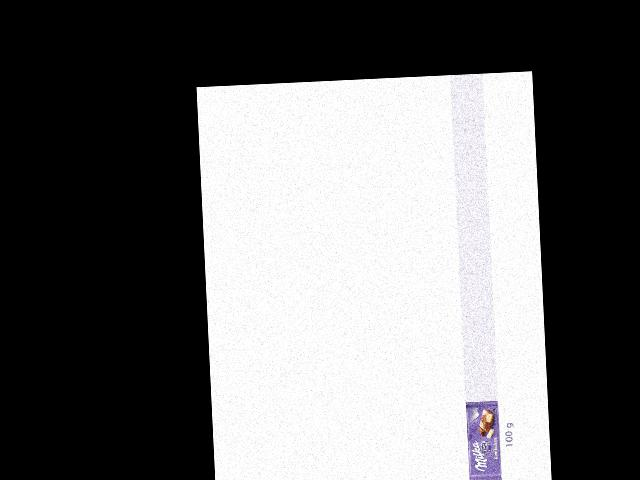chocolate: (465, 400, 503, 479)
